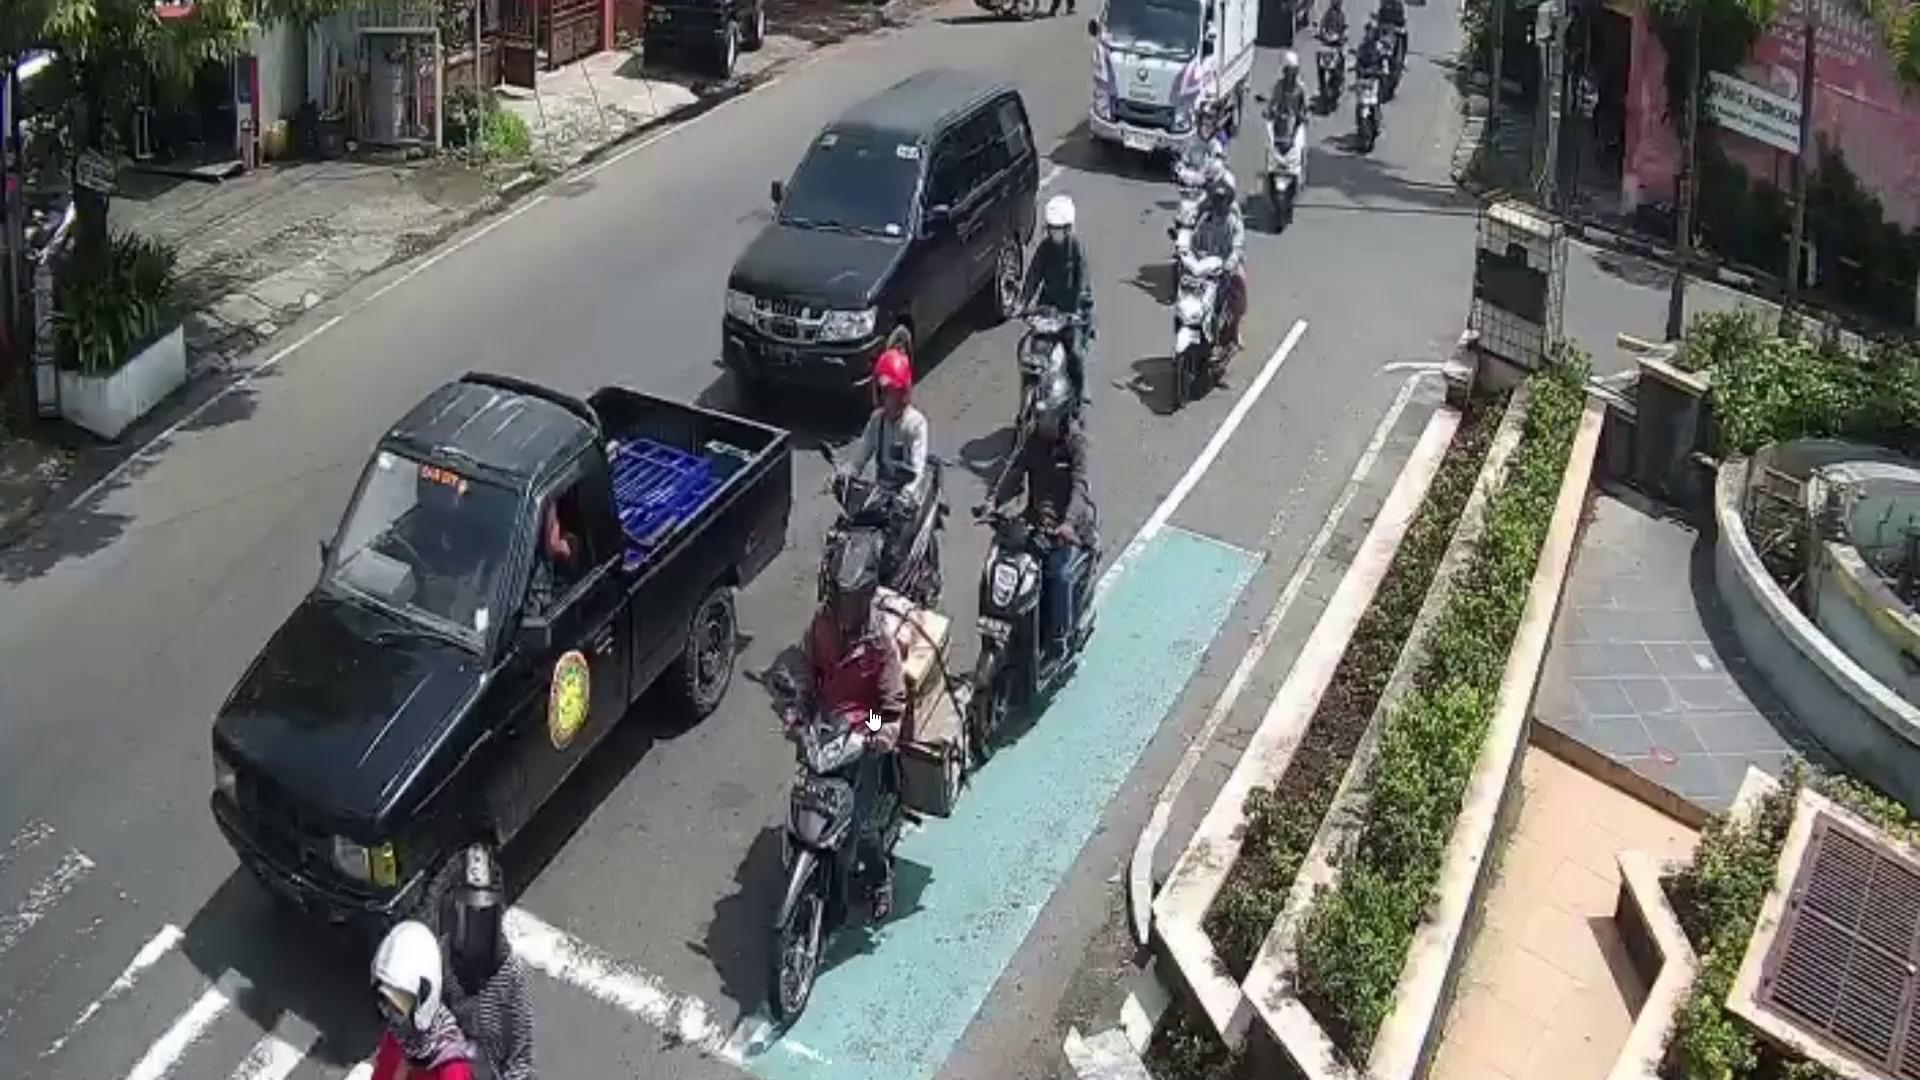car: (211, 372, 790, 953), (720, 71, 1036, 406)
motorbike: (969, 491, 1100, 766), (767, 712, 878, 1029), (1168, 245, 1216, 417), (1266, 116, 1305, 232)
truck: (1092, 0, 1261, 153)
